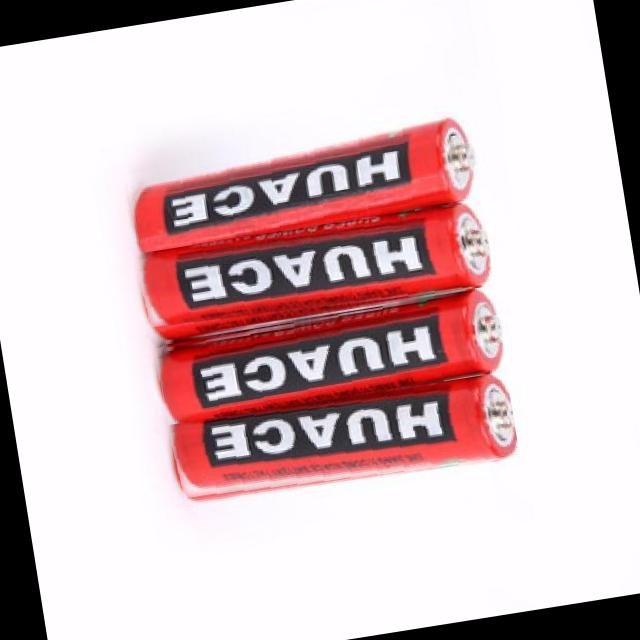Hazard: (124, 112, 483, 266), (132, 200, 494, 342), (151, 286, 506, 426), (166, 372, 518, 512)
